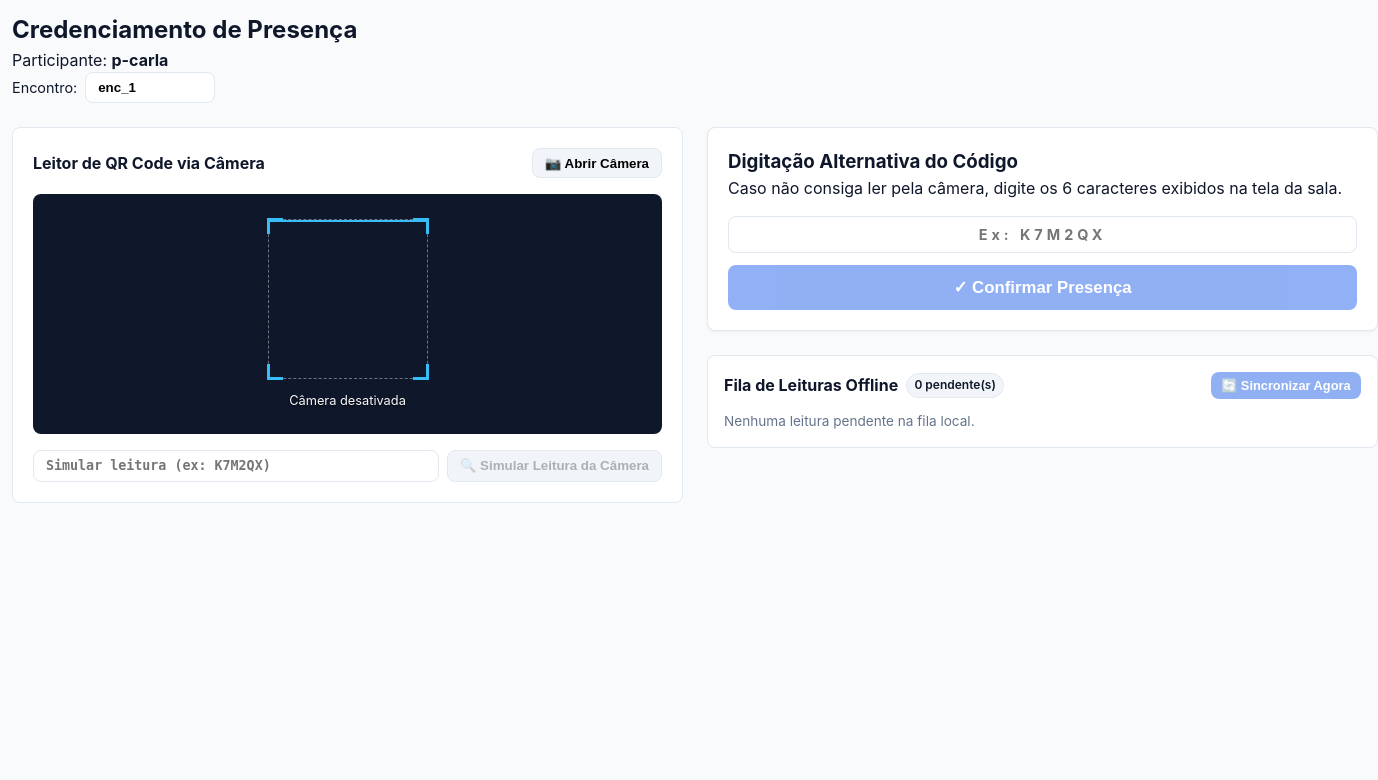
Scenario: M3 — Tela do Participante › permite registrar presença online simulando a leitura via câmera
Type "K7M2QX" into the field with test id "input-simular-camera". click: {"x": 236, "y": 466}
box: [33,450,439,482]
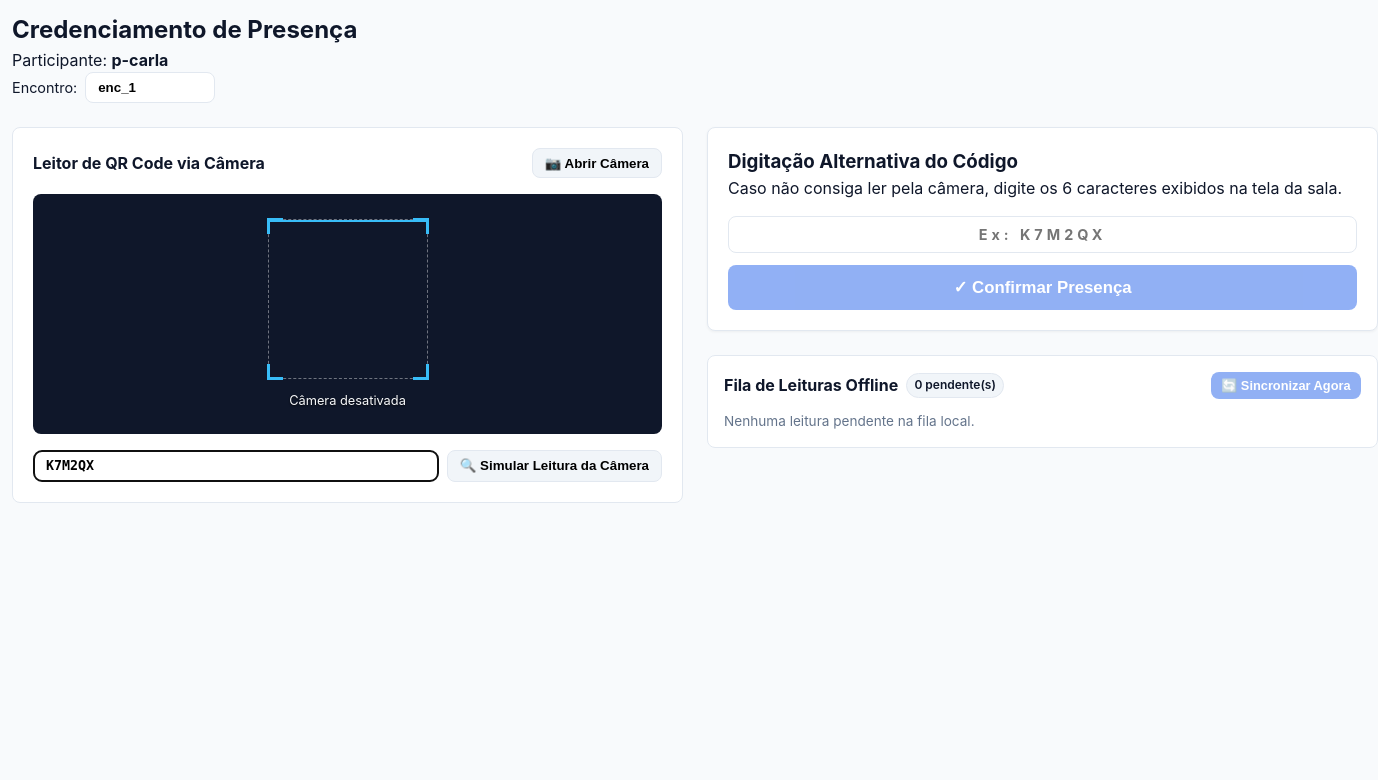
Click the button with test id "btn-simular-camera". click: {"x": 554, "y": 466}
box: [447,450,662,482]
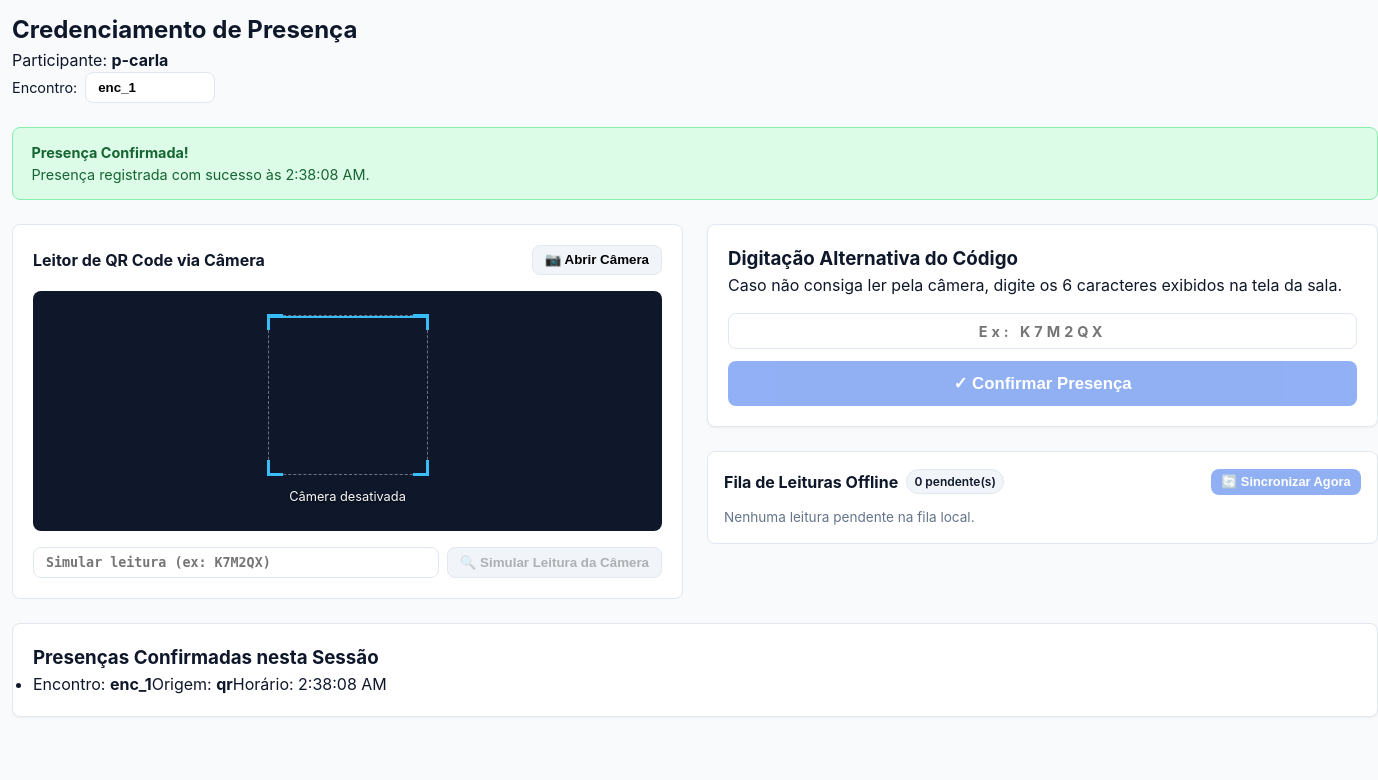
Expected: the element with test id "participante-feedback" shows "Presença Confirmada!", [31,144,189,161]
